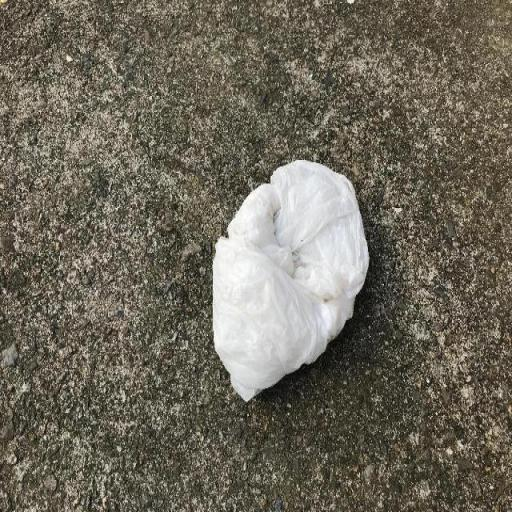plastic-bag: (212, 161, 375, 412)
